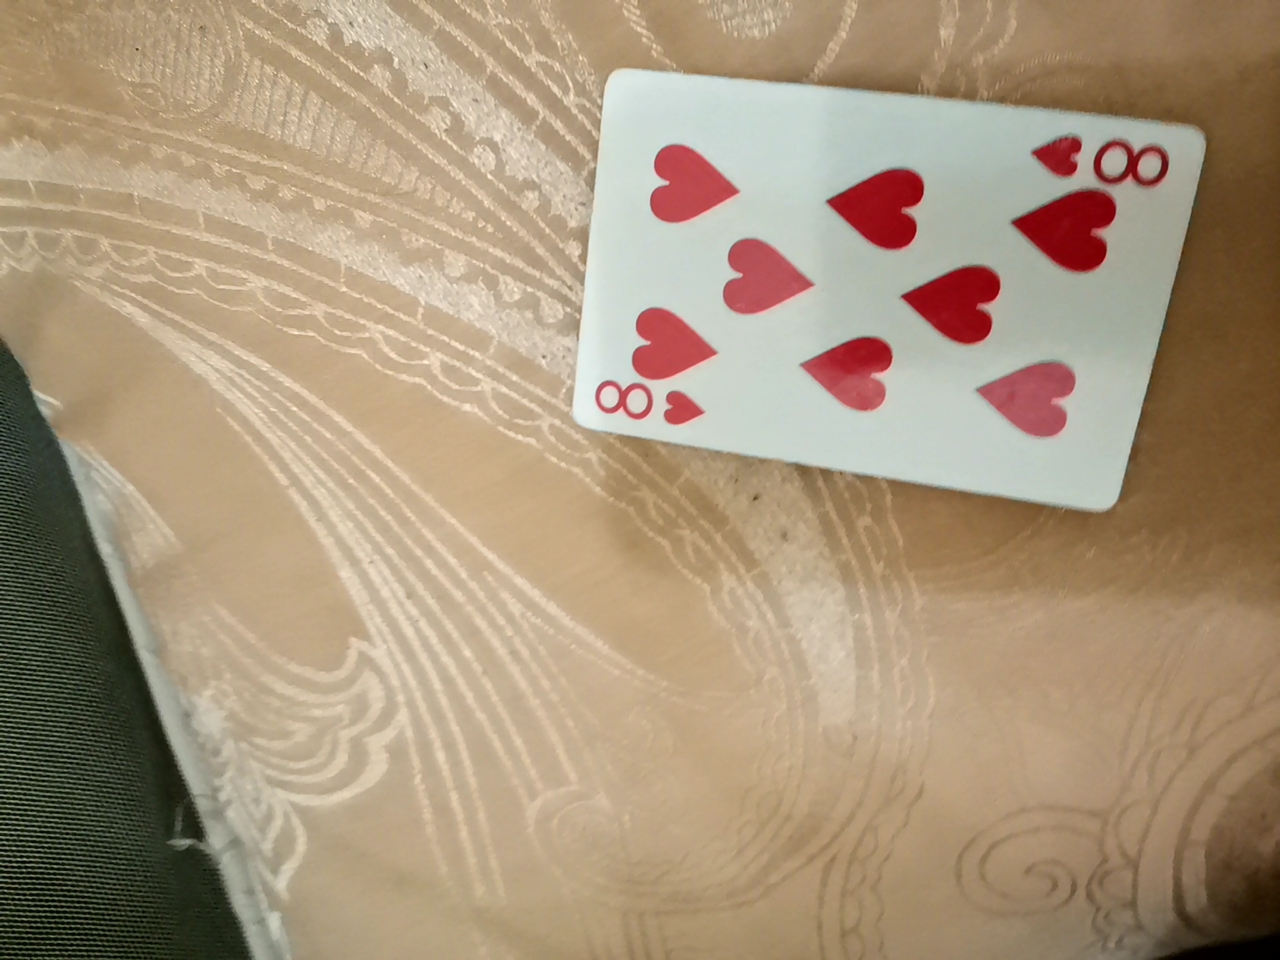hx 8: (560, 104, 1205, 557)
